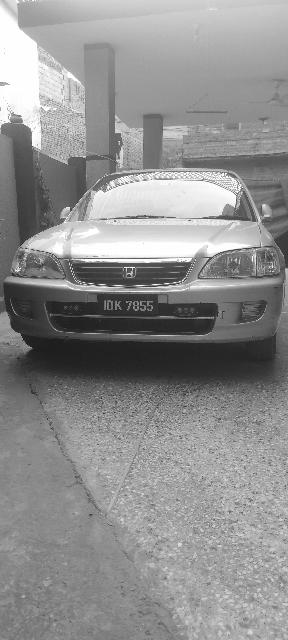Number: (101, 297, 154, 313)
